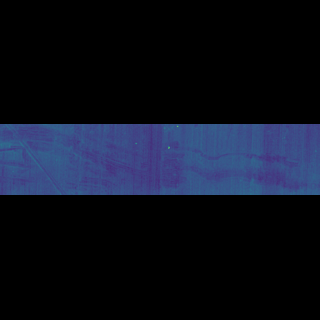Loch: (0, 151, 145, 168), (158, 156, 302, 168)
